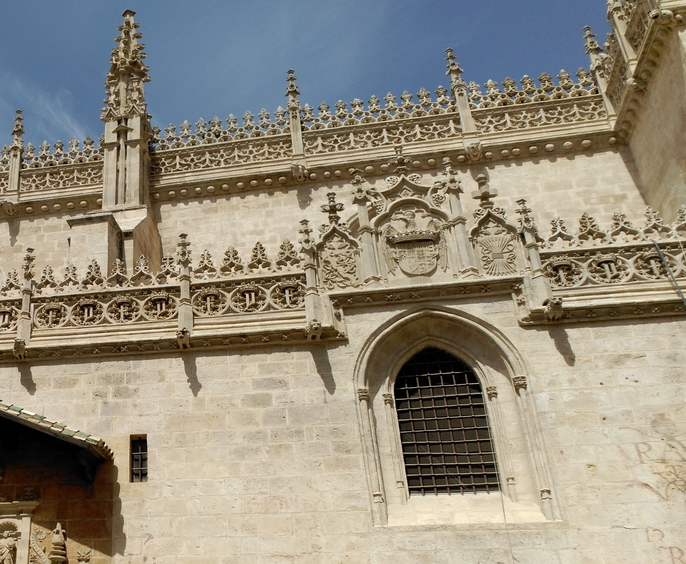arco-apuntado: (349, 298, 536, 413)
pinaculo-gotico: (100, 4, 152, 132)
